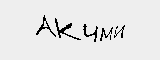А: (37, 15, 57, 37)
И: (112, 23, 126, 42)
К: (56, 18, 78, 41)
М: (100, 26, 115, 44)
Ч: (84, 24, 102, 44)
